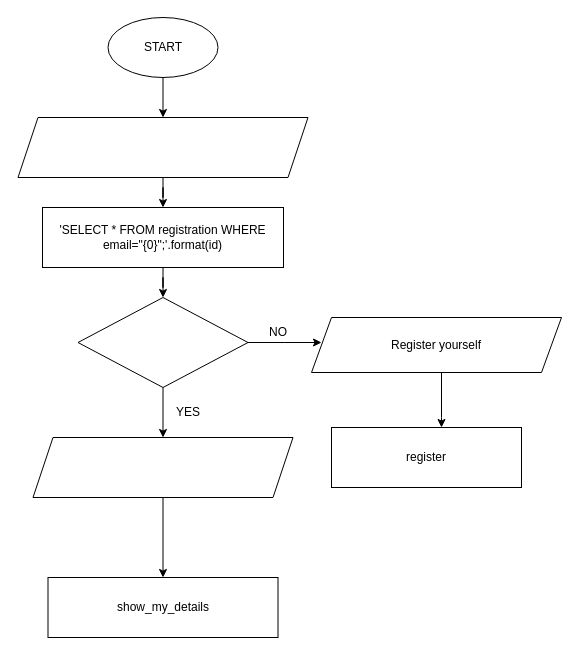
This 579x655 diagram has some shape labels left out. Each missing label, with the centre of its shape:
"if email exists in table registartion" goes at pixel 162 342.
"Show my details" goes at pixel 162 467.
"Welcome id" goes at pixel 162 147.
